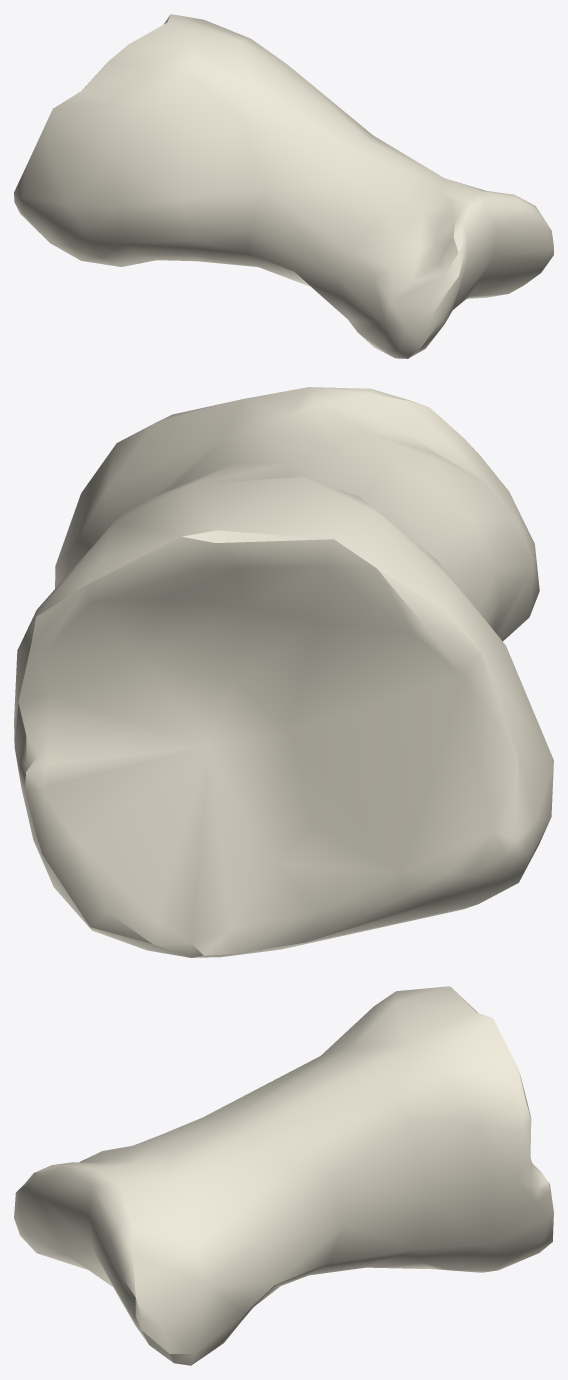
Rendered from fma43254_fj3329.glb.
3 views of the same model, one above another, from view 1: azimuth 30°, elevation 25°; view 2: azimuth 150°, elevation 25°; view 3: azimuth 270°, elevation 25° (orthographic). The views are drawn at different scales.
Visible parts, largest first — view 1: FMA43254_FJ3329; view 2: FMA43254_FJ3329; view 3: FMA43254_FJ3329.
Boxes of the visible parts, box(x1,y1,x2,y2) form: FMA43254_FJ3329: box(14, 14, 553, 358); FMA43254_FJ3329: box(14, 387, 553, 957); FMA43254_FJ3329: box(14, 986, 553, 1365).
Size of the model in its own units: 0.0304 by 0.0169 by 0.0332.
